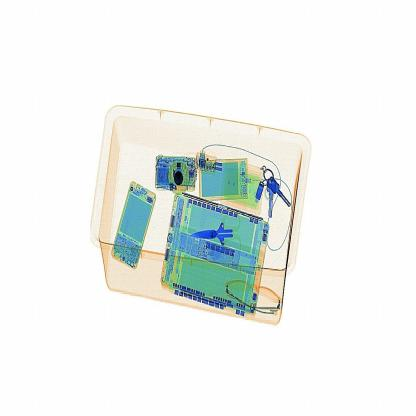gun: (187, 205, 252, 262)
